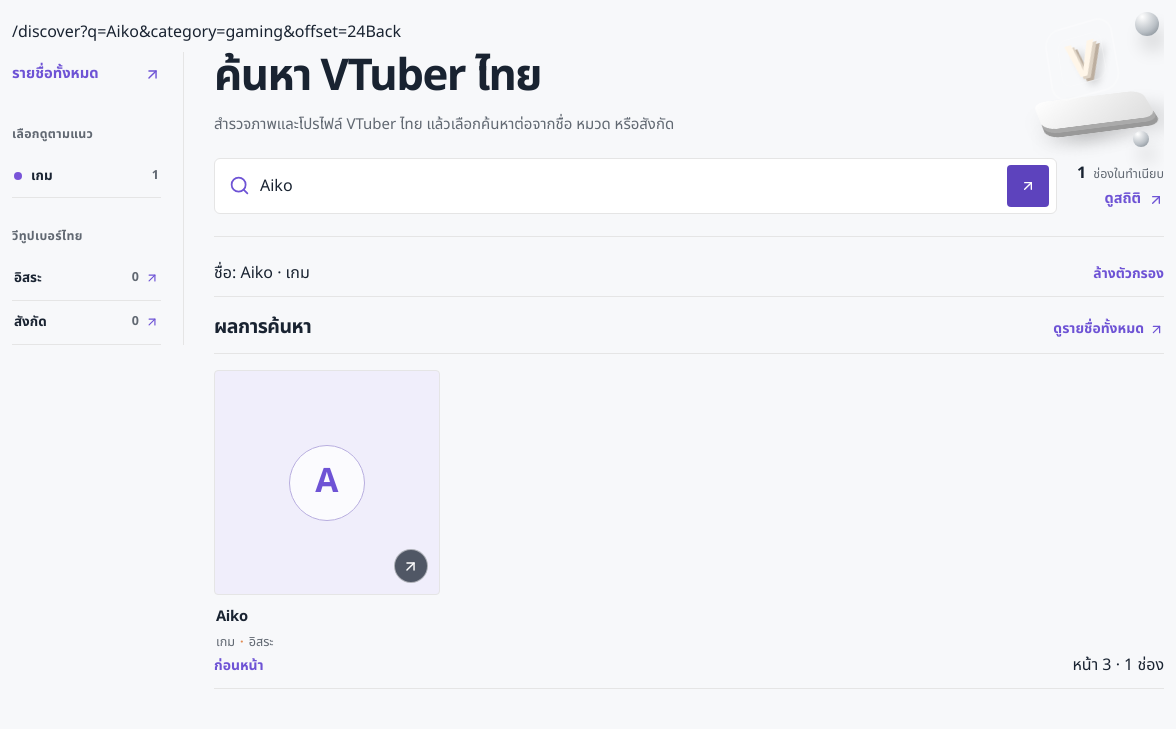
combines affiliation and category shortcuts with the submitted name filter
Check: the link "A Aiko เกม · อิสระ" is shown, box [214,370,440,653]
Click the link "อิสระ 0".
click(86, 279)  # box [12,257,161,301]
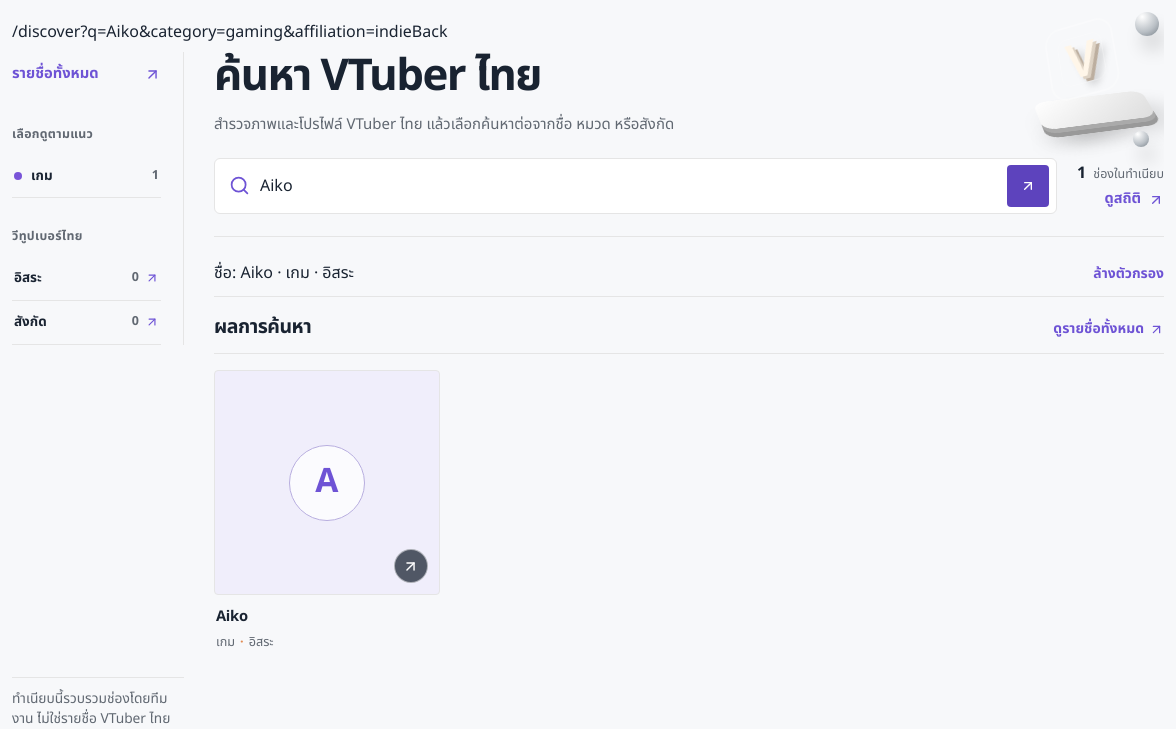
Check: the search field named "ค้นหาชื่อ VTuber" holds "Aiko", box [260,165,997,207]
Check: the text with test id "location" reads "/discover?q=Aiko&category=gaming&affiliation=indie", box [12,20,412,44]
